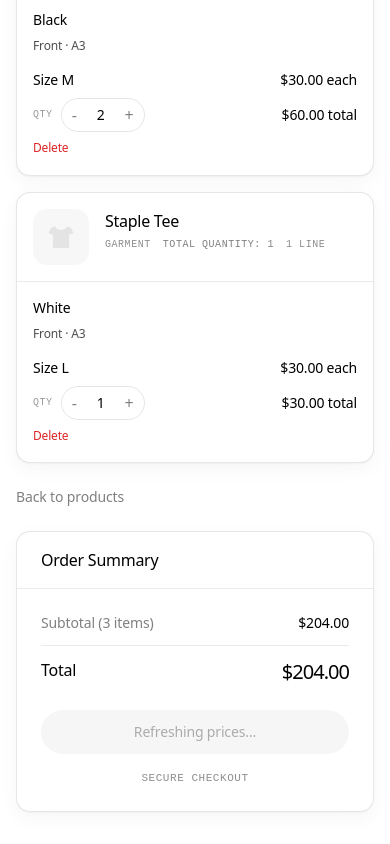
Test: cart page — product-grouped presentation › deletes only the clicked line and drops the group when its last row goes
The image size is (390, 844).
(page scrolled)
Expected: the element with test id "cart-row-twin" is shown, [33, 354, 357, 446]
Click the button with aria-label "remove" at [51, 436], box [33, 428, 68, 444]
(page scrolled)
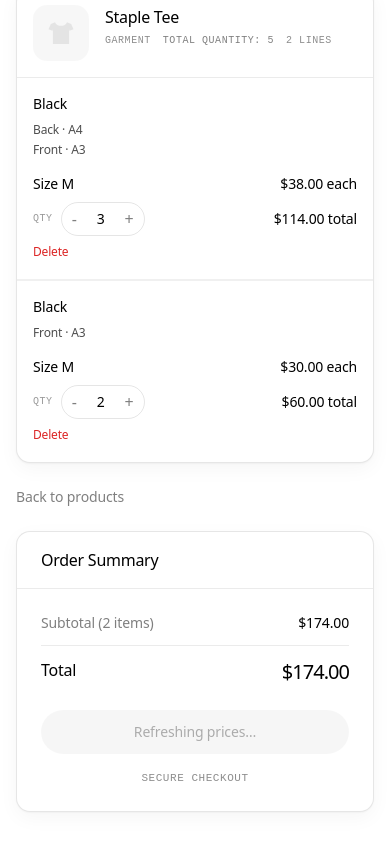
Expected: the element with test id "cart-row-front-only" is shown, [33, 353, 357, 446]
Expected: the element with test id "cart-row-twin" is gone
Expected: the text "Total quantity: 5" is shown once, [163, 33, 274, 48]
